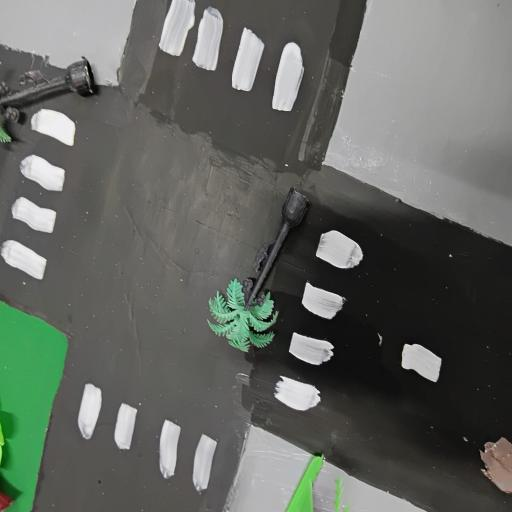fallen trees: (206, 171, 315, 359), (0, 68, 102, 144)
